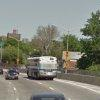Bus: (23, 52, 60, 83)
